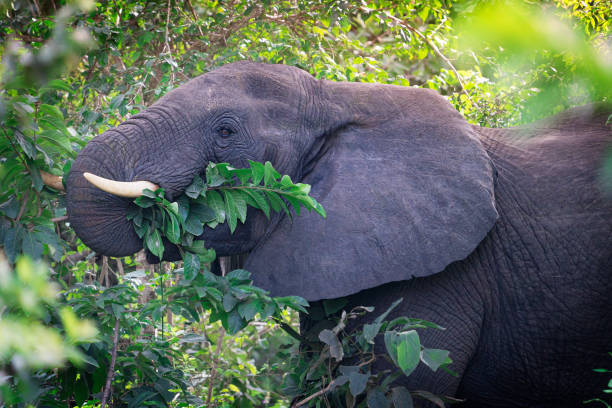elephant: (11, 29, 612, 404)
